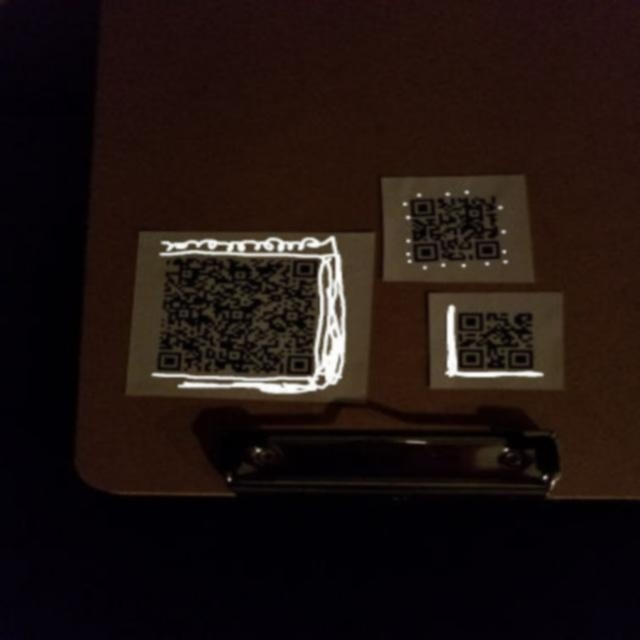qr-code: (147, 240, 339, 394), (398, 182, 506, 274), (446, 300, 549, 384)
